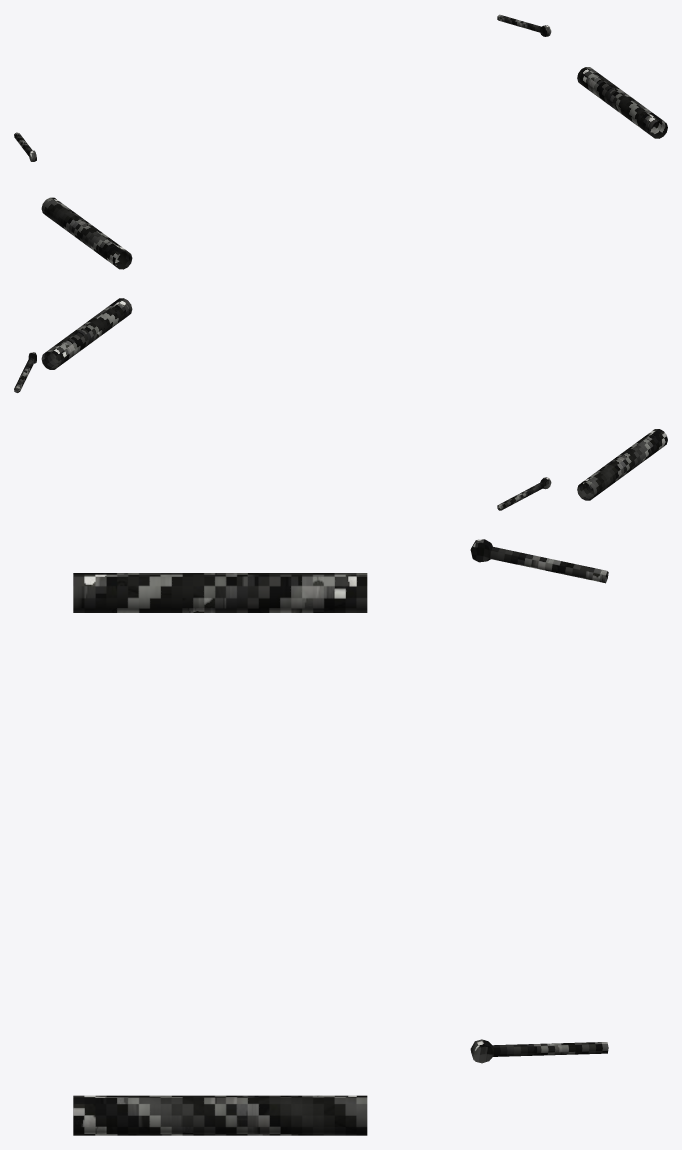
3 views of the same model, one above another, from view 1: azimuth 30°, elevation 25°; view 2: azimuth 150°, elevation 25°; view 3: azimuth 270°, elevation 25° (orthographic). The views are drawn at different scales.
Visible parts, largest first — view 1: gear_rear_f35_ext_3_0; view 2: gear_rear_f35_ext_3_0; view 3: gear_rear_f35_ext_3_0.
Boxes of the visible parts, x1,y1,x2,y2 form: gear_rear_f35_ext_3_0: (14,14,667,269); gear_rear_f35_ext_3_0: (14,298,667,510); gear_rear_f35_ext_3_0: (73,539,608,1135).
Size of the model in its own units: 366 by 26.02 by 154.
1 material, 1 textured.
